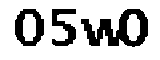0: (12, 4, 47, 51), (120, 5, 154, 47)
5: (50, 5, 80, 50)
w: (80, 15, 121, 48)
